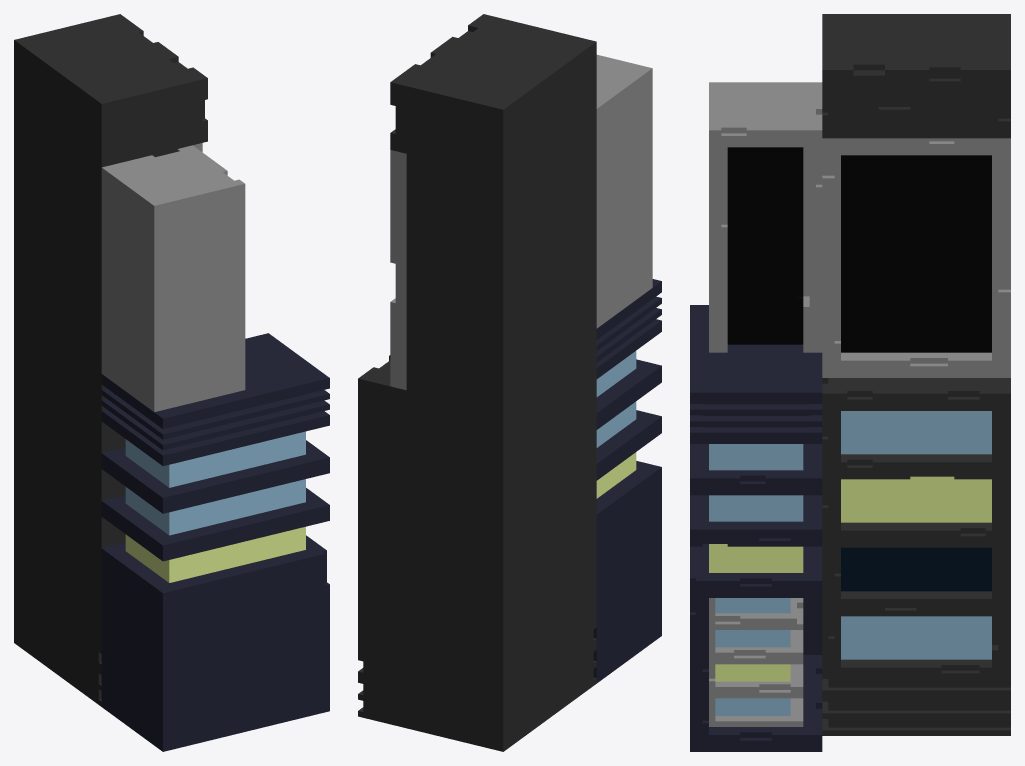
Rendered from TrainBuilding2.obj.
3 renders of one model, left to right at view 1: azimuth 30°, elevation 25°; view 2: azimuth 150°, elevation 25°; view 3: azimuth 270°, elevation 25°, orthographic. The views are drawn at different scales.
Size of the model in its own units: 3.3 by 11.4 by 5.1.
1 material, 1 textured.
